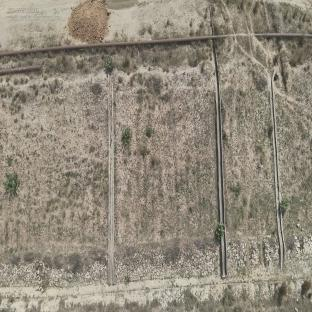rock_toe: (116, 250, 219, 282), (2, 255, 106, 286), (228, 236, 280, 274), (286, 234, 311, 261)
slope_drain: (212, 41, 227, 278), (269, 71, 286, 270), (107, 74, 115, 285)
toe_drain: (0, 265, 312, 300)
